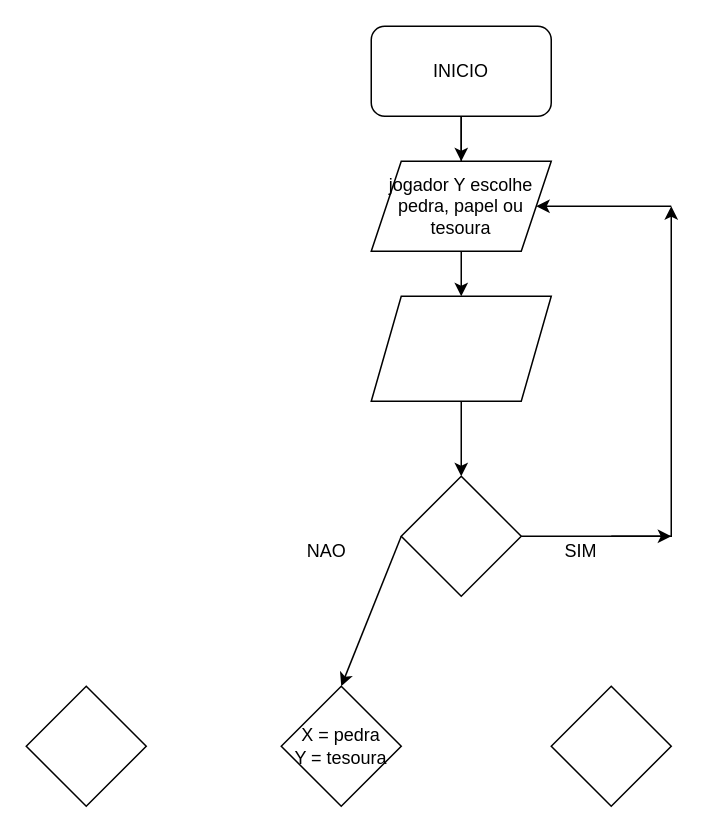
The diagram is 710 pixels wide and 833 high, and some of its shapes have lost their labels. The shapes that lost their labels are listed below. From the top down, each one's centre as x and y in pixels, then its label:
the point at 460,348: jogador X escolhe pedra, papel ou tesoura
the point at 460,535: é igual ?
